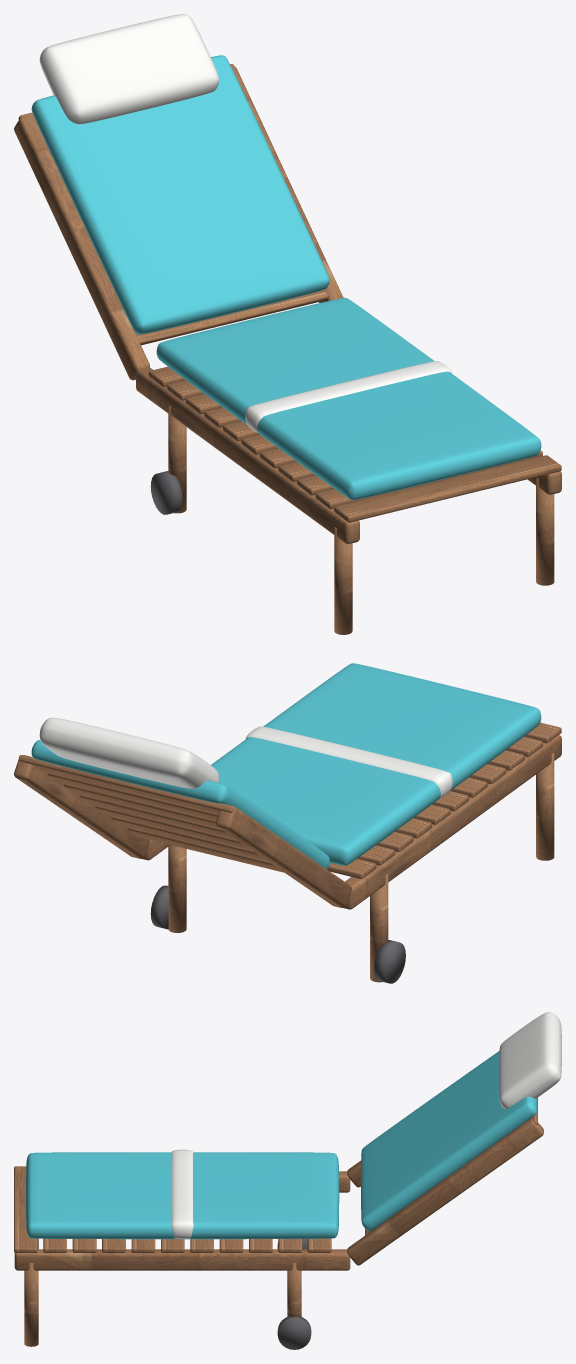
The model's file is lounger.glb.
The picture shows the model from 3 angles, top to bottom: view 1: azimuth 30°, elevation 25°; view 2: azimuth 150°, elevation 25°; view 3: azimuth 270°, elevation 25°; orthographic projection. The views are drawn at different scales.
Parts seen in each view (by area): view 1: rail; view 2: rail; view 3: rail.
Boxes of the visible parts, bbox=[...] form: rail: bbox=[14, 14, 561, 634]; rail: bbox=[14, 663, 561, 983]; rail: bbox=[14, 1012, 561, 1349].
Bounding box in the file's own units: 0.765 × 1.05 × 1.96.
4 materials, 1 textured.
